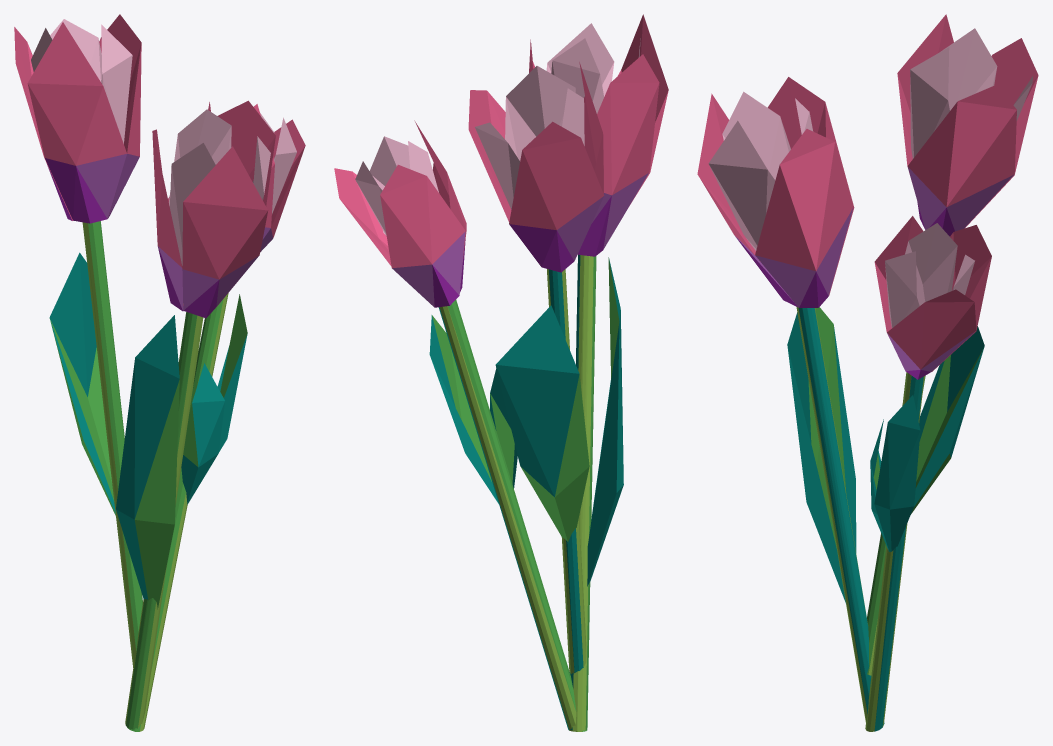
The model's file is flower.glb.
The picture shows the model from 3 angles, left to right: view 1: azimuth 30°, elevation 25°; view 2: azimuth 150°, elevation 25°; view 3: azimuth 270°, elevation 25°; orthographic projection. The views are drawn at different scales.
Parts seen in each view (by area): view 1: group1524081558; view 2: group1524081558; view 3: group1524081558.
Part boxes in pixels (<box>): group1524081558: <box>14,14,305,731</box>; group1524081558: <box>334,14,668,731</box>; group1524081558: <box>697,14,1038,731</box>.
Size of the model in its own units: 0.4954 by 1.24 by 0.5495.
Materials: 1 (1 with a texture image).
